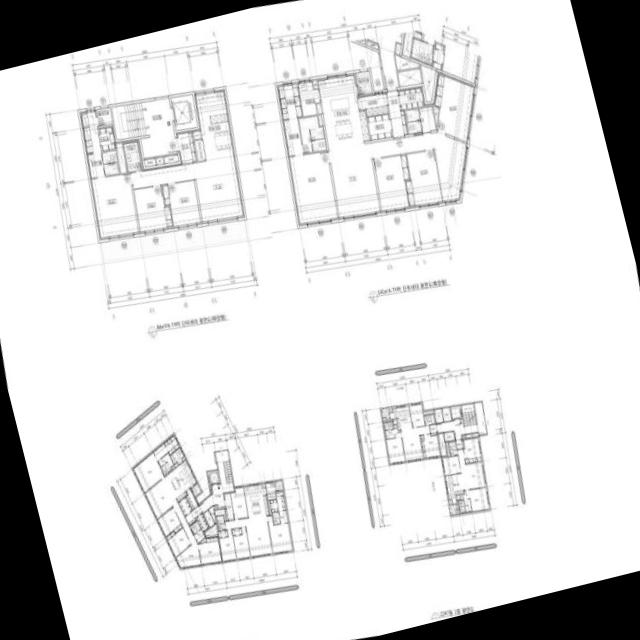background: (0, 0, 640, 640)
space_balconi: (190, 482, 200, 496), (274, 479, 282, 490)
space_bedroom: (287, 151, 337, 225), (90, 173, 138, 239), (433, 71, 474, 141), (373, 154, 409, 212), (405, 149, 441, 207), (161, 179, 200, 227), (133, 185, 172, 232), (132, 451, 163, 492), (267, 514, 292, 553), (156, 507, 182, 536), (165, 527, 190, 557), (198, 535, 221, 564), (386, 428, 404, 463), (462, 487, 489, 510), (232, 526, 250, 559), (229, 486, 247, 518), (219, 528, 236, 561), (462, 437, 481, 462), (420, 433, 439, 458), (408, 402, 424, 426), (441, 455, 460, 475), (231, 527, 241, 535), (217, 529, 227, 537)
space_dressroom: (276, 82, 302, 119), (79, 109, 100, 153), (282, 118, 302, 155), (98, 124, 115, 150), (163, 434, 179, 455), (275, 491, 285, 510), (269, 499, 277, 511)
space_elevator: (171, 94, 196, 129), (449, 405, 461, 419), (207, 470, 219, 484)
space_elevator_hall: (140, 97, 177, 158), (199, 450, 233, 512), (436, 418, 476, 438)
space_front: (385, 89, 407, 137), (175, 130, 196, 163), (397, 85, 424, 109), (184, 505, 201, 524), (223, 492, 233, 520), (195, 512, 208, 531), (178, 496, 191, 515), (455, 439, 463, 448), (429, 424, 436, 434)
space_kitchen: (317, 72, 369, 149), (193, 88, 234, 160), (164, 459, 196, 501), (243, 483, 268, 517), (444, 473, 463, 502), (389, 404, 411, 429)
space_living_room: (328, 132, 466, 218), (131, 156, 244, 223), (144, 476, 200, 568), (224, 515, 272, 556), (457, 449, 485, 489), (400, 425, 429, 461)
space_multipurpose_space: (297, 79, 319, 116)
space_other: (367, 32, 402, 88), (357, 91, 388, 115), (366, 114, 391, 139), (419, 64, 435, 101), (397, 68, 421, 86), (473, 401, 486, 434), (394, 54, 419, 69), (115, 141, 126, 173), (185, 487, 197, 509), (193, 139, 205, 160), (169, 447, 183, 464), (437, 432, 446, 455), (203, 509, 214, 527), (265, 481, 275, 499), (204, 523, 217, 535), (315, 103, 322, 125), (163, 154, 178, 163), (214, 508, 225, 520), (432, 105, 438, 126), (441, 407, 450, 421), (434, 408, 443, 422), (208, 505, 215, 522), (443, 431, 454, 440), (380, 408, 389, 419), (366, 40, 377, 49), (143, 158, 155, 166), (449, 503, 457, 514), (192, 129, 200, 138), (155, 156, 163, 164), (395, 42, 400, 54), (465, 432, 477, 437), (267, 500, 271, 514), (445, 442, 449, 456), (170, 462, 178, 469), (312, 78, 317, 88), (422, 410, 433, 414), (199, 537, 205, 542), (261, 482, 265, 487), (181, 456, 185, 460), (388, 408, 392, 412), (213, 504, 217, 508), (209, 485, 211, 493), (459, 494, 462, 499), (461, 434, 465, 437), (393, 424, 396, 428), (448, 499, 451, 503), (382, 417, 385, 420), (456, 509, 458, 513)
space_outdoor_room: (355, 70, 372, 94), (96, 107, 111, 122)
space_staircase: (111, 101, 148, 139), (461, 403, 475, 426), (222, 460, 232, 483)
space_toilet: (298, 115, 326, 152), (86, 150, 118, 177), (122, 141, 140, 171), (418, 106, 435, 131), (157, 452, 173, 475), (152, 442, 167, 460), (406, 120, 421, 133), (404, 108, 419, 121), (383, 421, 394, 438), (458, 498, 471, 512), (193, 528, 204, 542), (216, 515, 225, 530), (448, 441, 457, 455), (423, 413, 434, 424), (278, 510, 287, 523), (193, 520, 200, 531), (189, 523, 196, 533), (271, 511, 279, 518), (272, 517, 279, 523)
